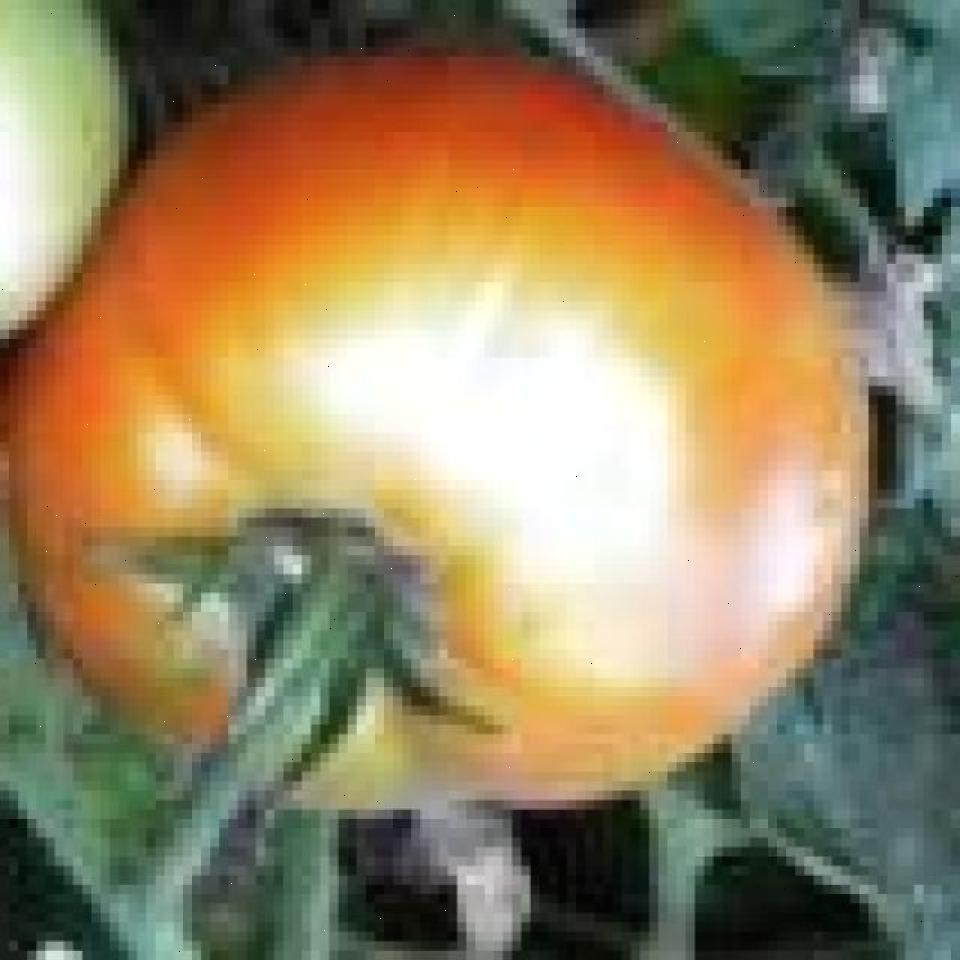Sunscald: (302, 244, 695, 724)
